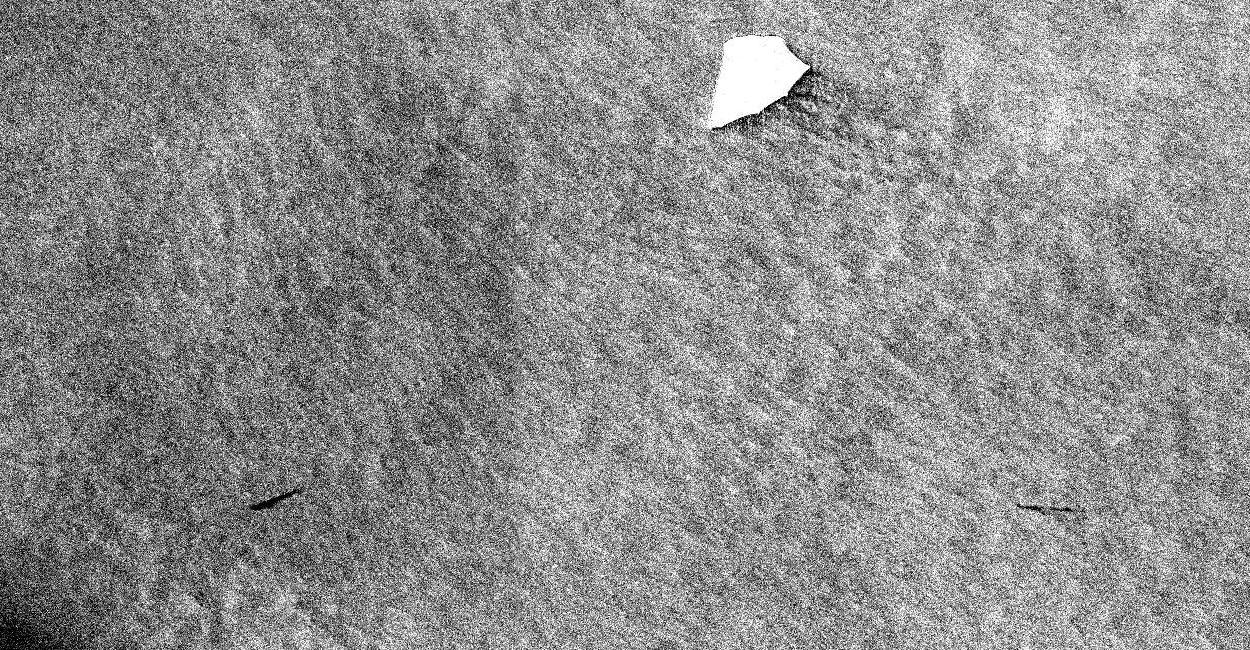Oil Spill: (248, 488, 300, 512), (1016, 502, 1046, 516), (1048, 506, 1074, 512)
